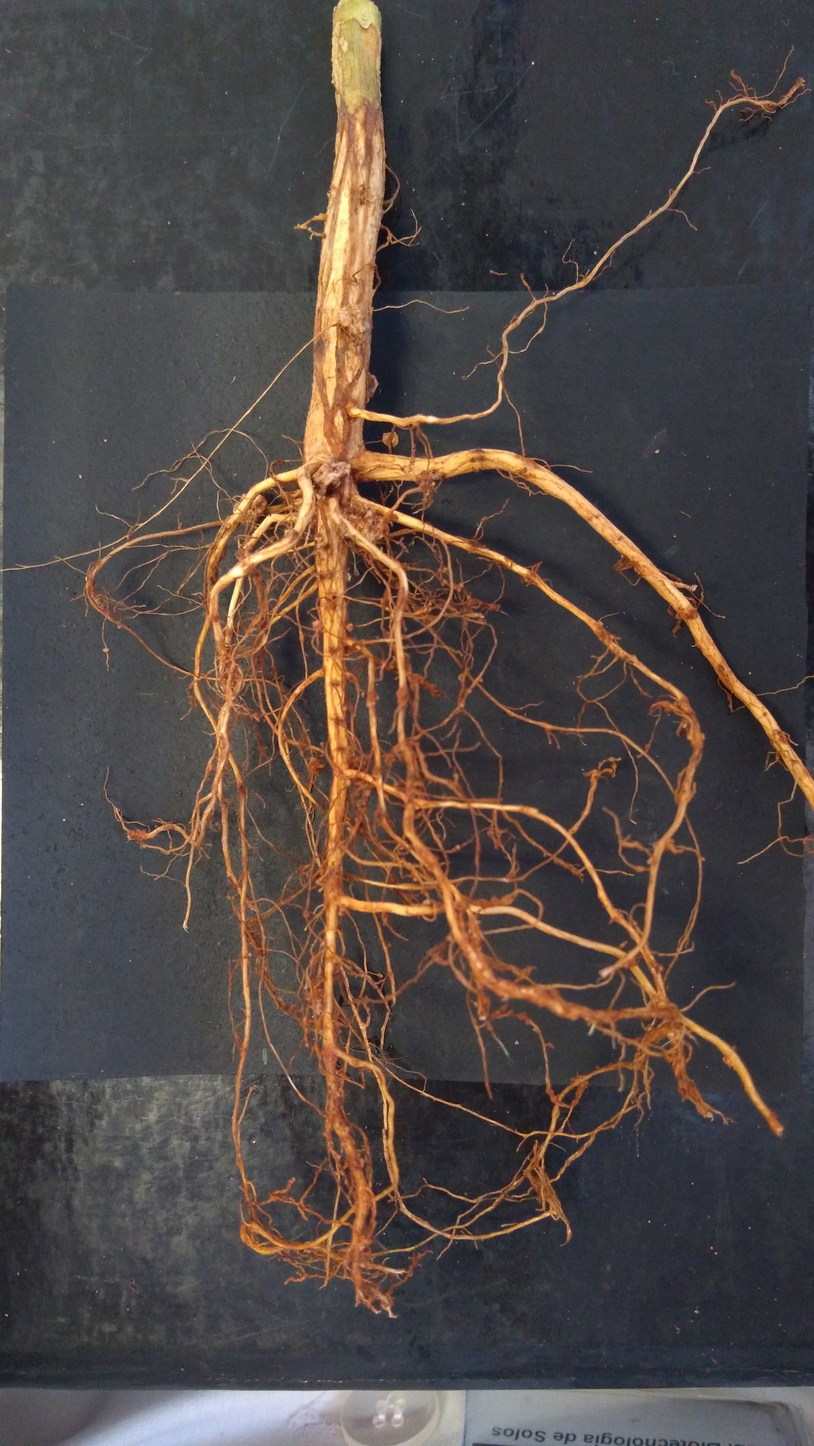nodule: (336, 498, 390, 549), (311, 461, 351, 496), (232, 492, 268, 524), (337, 303, 370, 334), (218, 662, 244, 696), (305, 987, 326, 1015), (365, 370, 379, 406), (286, 487, 304, 512), (306, 755, 325, 776), (678, 1079, 697, 1099), (476, 995, 490, 1021), (686, 731, 705, 749), (246, 566, 263, 586), (380, 431, 399, 448), (695, 1102, 713, 1119), (613, 557, 633, 572), (671, 1055, 685, 1076), (351, 754, 369, 770), (408, 673, 423, 691), (451, 899, 470, 913), (332, 952, 344, 974), (667, 1028, 682, 1045), (359, 1234, 373, 1252), (571, 1074, 589, 1088), (382, 750, 395, 767), (381, 1293, 394, 1310), (127, 829, 145, 841), (249, 614, 265, 627), (333, 1125, 350, 1137), (234, 547, 249, 560), (663, 1048, 676, 1063), (308, 952, 320, 968), (312, 532, 324, 544), (311, 620, 322, 632), (722, 1056, 733, 1068), (357, 1156, 365, 1170), (302, 907, 311, 919), (422, 897, 434, 906), (301, 1016, 310, 1026), (251, 713, 260, 722), (362, 789, 371, 798), (346, 622, 354, 632), (344, 777, 351, 788), (345, 571, 352, 582), (319, 213, 326, 221), (459, 582, 464, 588), (456, 587, 461, 593), (102, 648, 109, 652), (361, 691, 365, 698), (141, 844, 146, 849), (116, 625, 121, 629)
